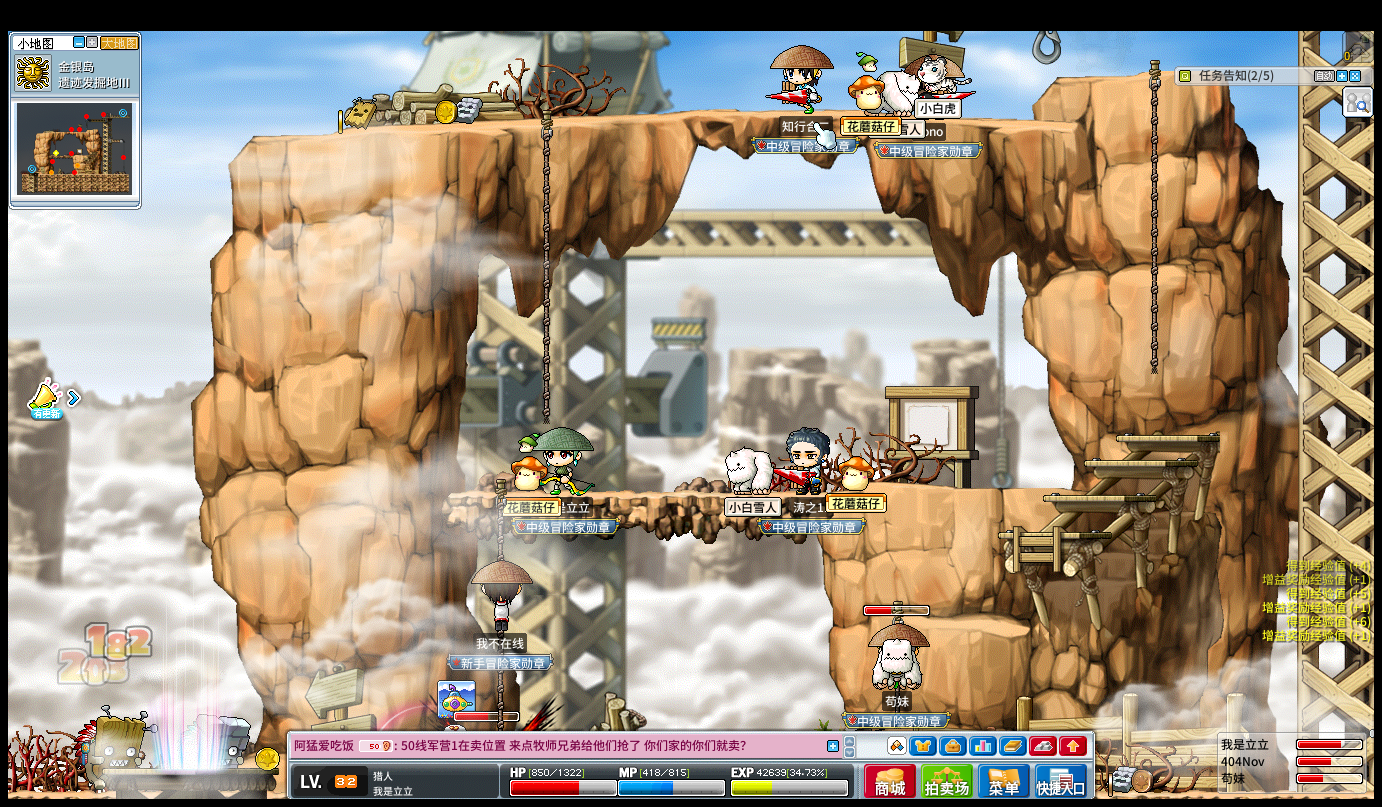floor: (223, 106, 1076, 142), (457, 490, 820, 500), (923, 614, 1029, 636), (905, 481, 1082, 494), (905, 485, 1079, 495), (1114, 433, 1221, 446), (1053, 71, 1168, 83), (996, 530, 1109, 539), (1078, 458, 1191, 467), (1039, 495, 1153, 503), (1044, 494, 1156, 501)
monster: (73, 705, 159, 792)
rope: (1147, 56, 1161, 380), (538, 113, 550, 423), (492, 483, 504, 559)
